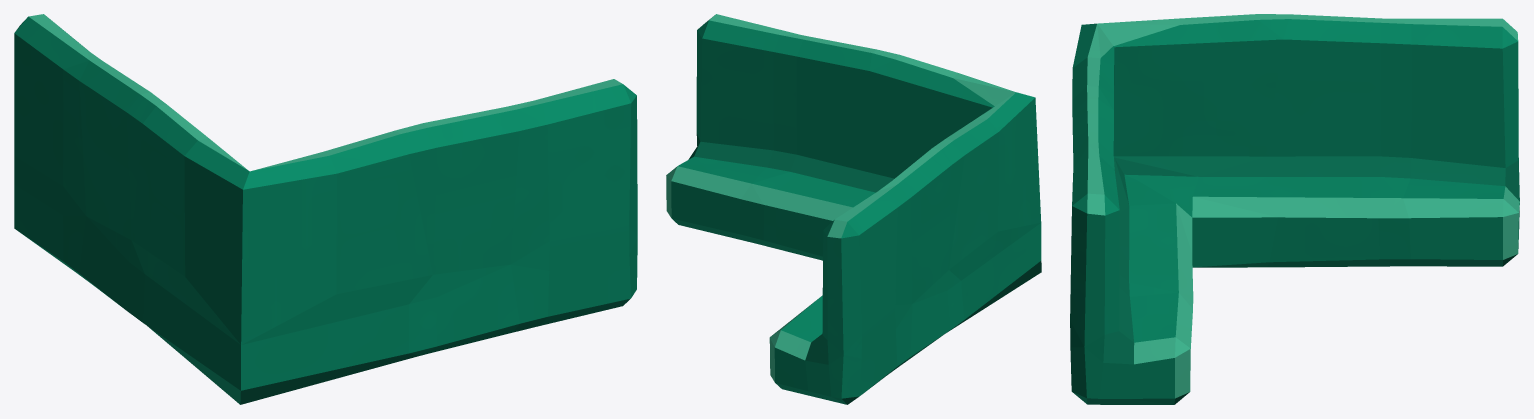
The model's file is ml_couch_optimized.glb.
The picture shows the model from 3 angles, left to right: view 1: azimuth 30°, elevation 25°; view 2: azimuth 150°, elevation 25°; view 3: azimuth 270°, elevation 25°; orthographic projection. The views are drawn at different scales.
Parts seen in each view (by area): view 1: Cube.002; view 2: Cube.002; view 3: Cube.002.
Boxes of the visible parts, x1=… form: Cube.002: x1=14, y1=14, x2=637, y2=404; Cube.002: x1=666, y1=14, x2=1041, y2=404; Cube.002: x1=1070, y1=14, x2=1519, y2=404.
Bounding box in the file's own units: 11.5 × 6.09 × 11.52.
Materials: 1 (1 with a texture image).
